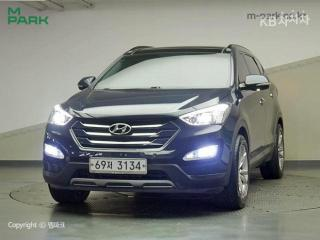1: (123, 160, 130, 171)
3: (116, 160, 123, 171), (129, 160, 136, 171)
4: (135, 161, 142, 170)
6: (94, 160, 101, 170)
9: (100, 159, 107, 171)
plate: (83, 153, 153, 178)
저: (107, 160, 112, 169)
